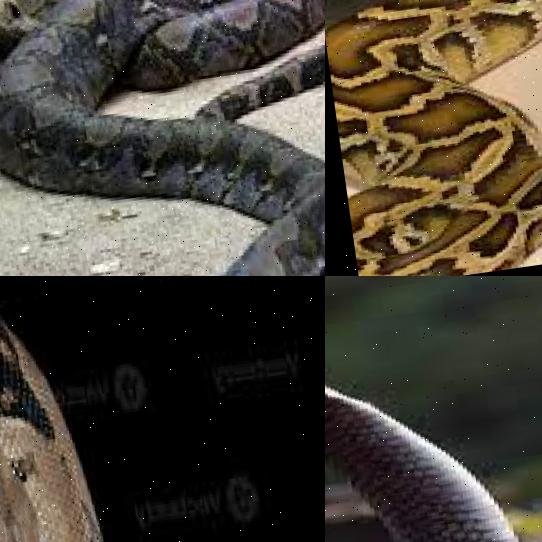1: (325, 276, 542, 542)
3: (0, 0, 325, 276), (0, 286, 170, 542)
snake: (325, 0, 542, 276)
